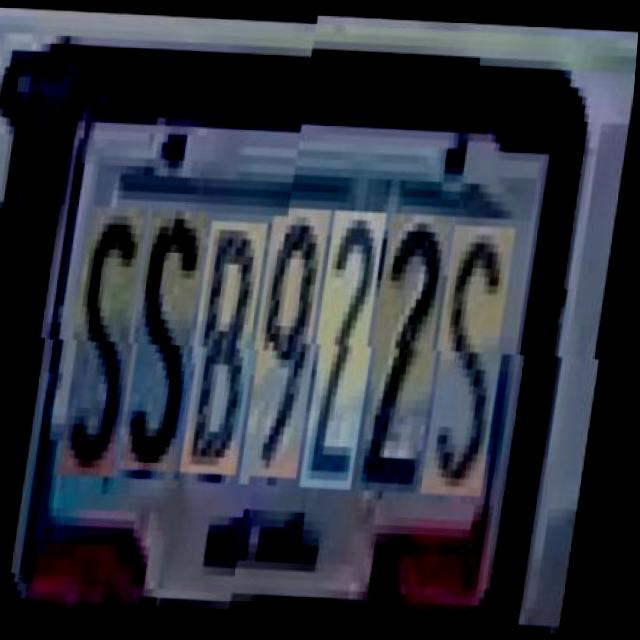2: (369, 216, 462, 496), (314, 214, 397, 494)
9: (254, 212, 341, 483)
b: (195, 219, 279, 472)
s: (434, 228, 526, 499), (73, 204, 160, 476), (134, 207, 220, 470)
